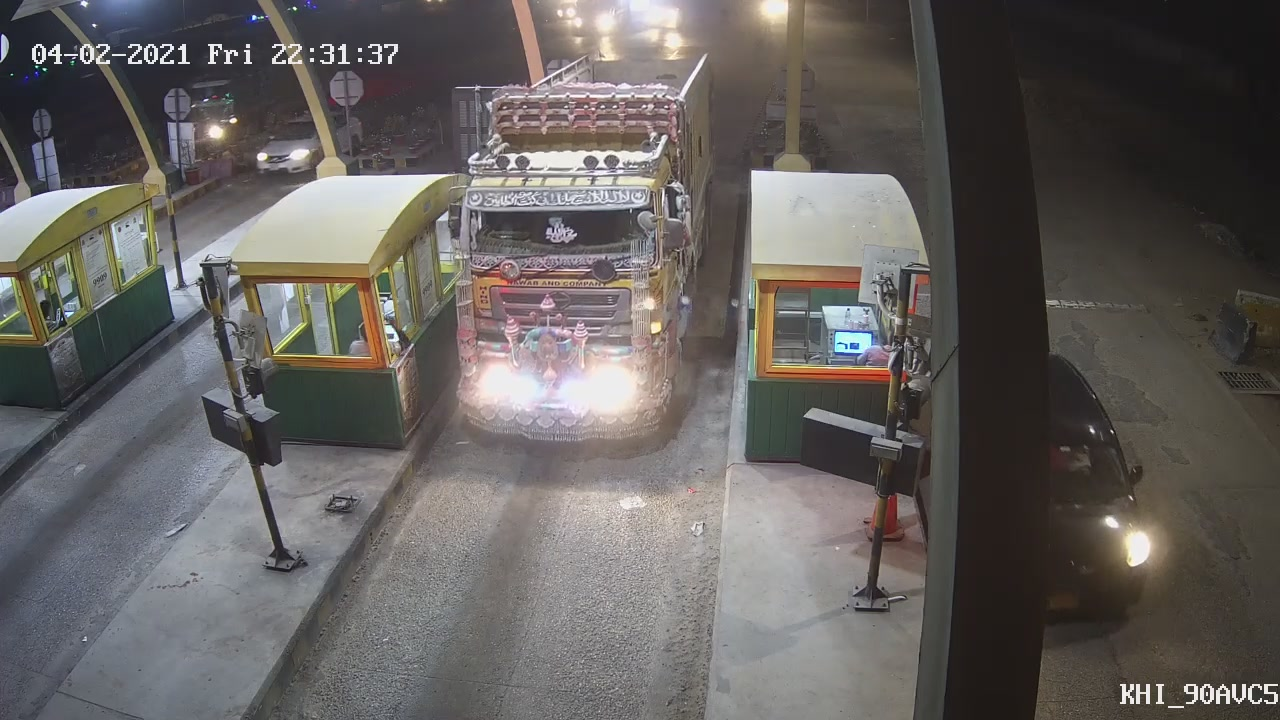F5: (442, 96, 710, 447)
